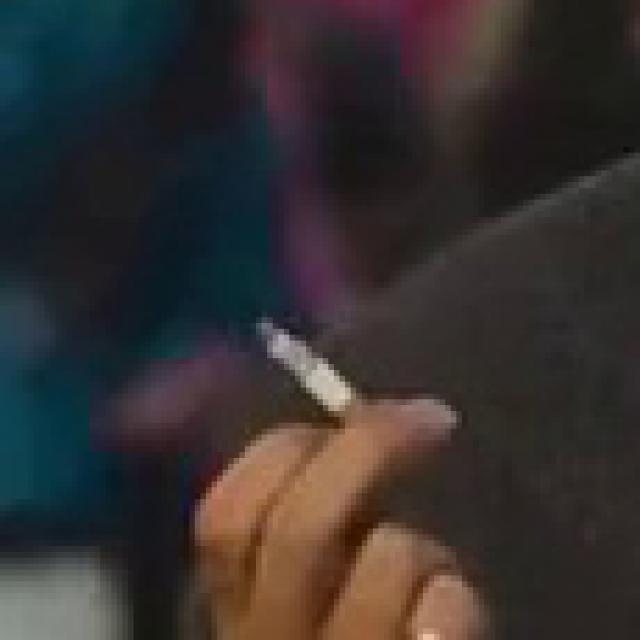smoking: (249, 316, 365, 418)
